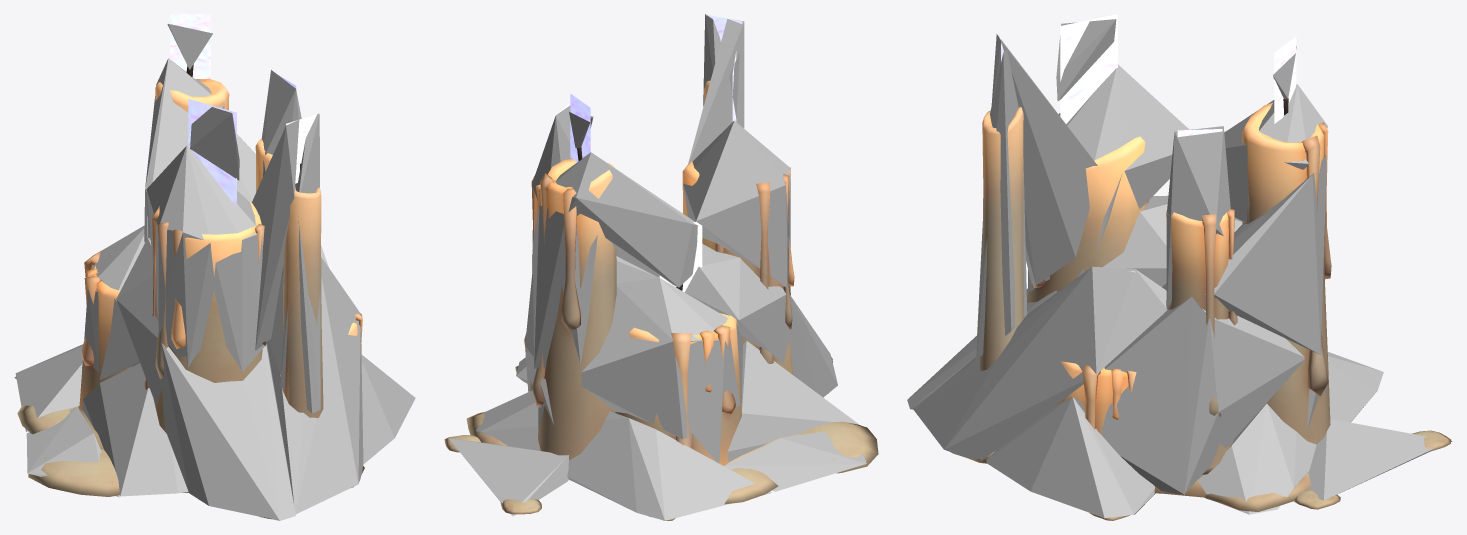
File: SM_Candle_d.fbx
3 renders of one model, left to right at view 1: azimuth 30°, elevation 25°; view 2: azimuth 150°, elevation 25°; view 3: azimuth 270°, elevation 25°, orthographic. The views are drawn at different scales.
Visible parts, largest first — view 1: SM_Candle_d_ConvexHulls, SM_Candle_d; view 2: SM_Candle_d_ConvexHulls, SM_Candle_d; view 3: SM_Candle_d_ConvexHulls, SM_Candle_d.
Part boxes in pixels (x1,y1,x2,y2): SM_Candle_d_ConvexHulls: [15, 24, 415, 520]; SM_Candle_d: [14, 14, 364, 519]; SM_Candle_d_ConvexHulls: [449, 14, 866, 520]; SM_Candle_d: [444, 15, 878, 520]; SM_Candle_d_ConvexHulls: [907, 19, 1452, 518]; SM_Candle_d: [950, 14, 1451, 520].
Bounding box in the file's own units: 34.2 × 39.57 × 32.19.
2 materials, 1 textured.
